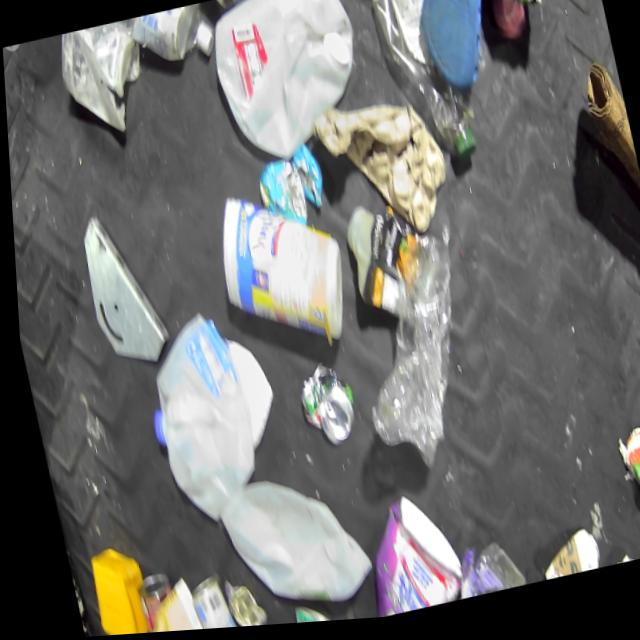can: (287, 359, 360, 456), (177, 568, 235, 632), (606, 423, 640, 525), (128, 567, 178, 635), (73, 618, 94, 638)
milk_jug: (122, 306, 262, 540), (196, 0, 375, 179), (204, 460, 373, 630)
non_white_jug: (342, 487, 463, 623)
plastic_bottle: (360, 0, 479, 176), (89, 3, 218, 86)
